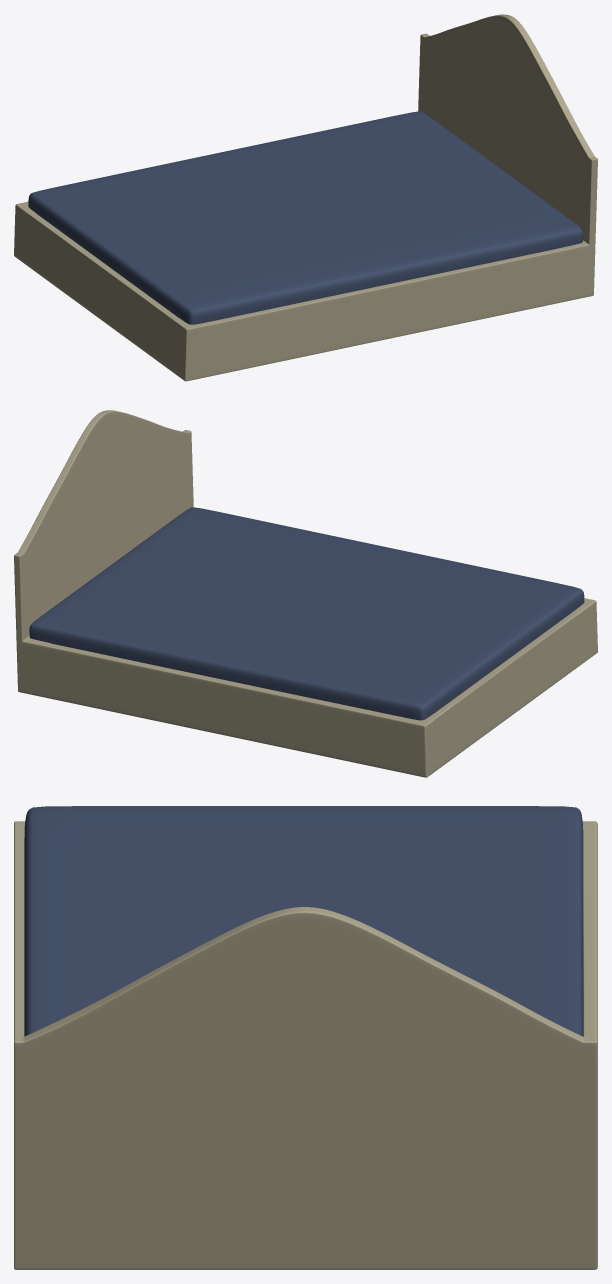
File: bed.fbx
3 views of the same model, one above another, from view 1: azimuth 30°, elevation 25°; view 2: azimuth 150°, elevation 25°; view 3: azimuth 270°, elevation 25° (orthographic). The views are drawn at different scales.
Parts seen in each view (by area): view 1: polySurface2, polySurface1; view 2: polySurface2, polySurface1; view 3: polySurface1, polySurface2.
Boxes of the visible parts, x1,y1,x2,y2 form: polySurface2: (28,111,583,324); polySurface1: (14,14,597,381); polySurface2: (29,507,584,720); polySurface1: (14,410,597,777); polySurface1: (14,821,597,1269); polySurface2: (24,806,583,1036).
Bounding box in the file's own units: 7.4 × 3.65 × 5.3.
